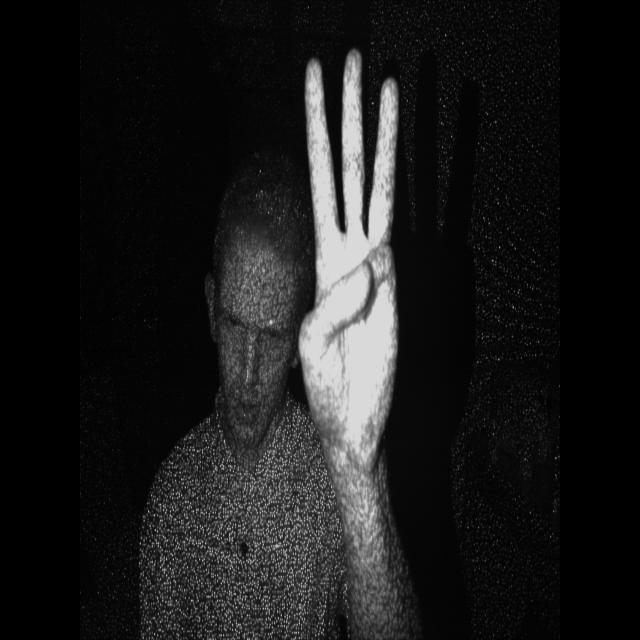W: (294, 36, 418, 490)
